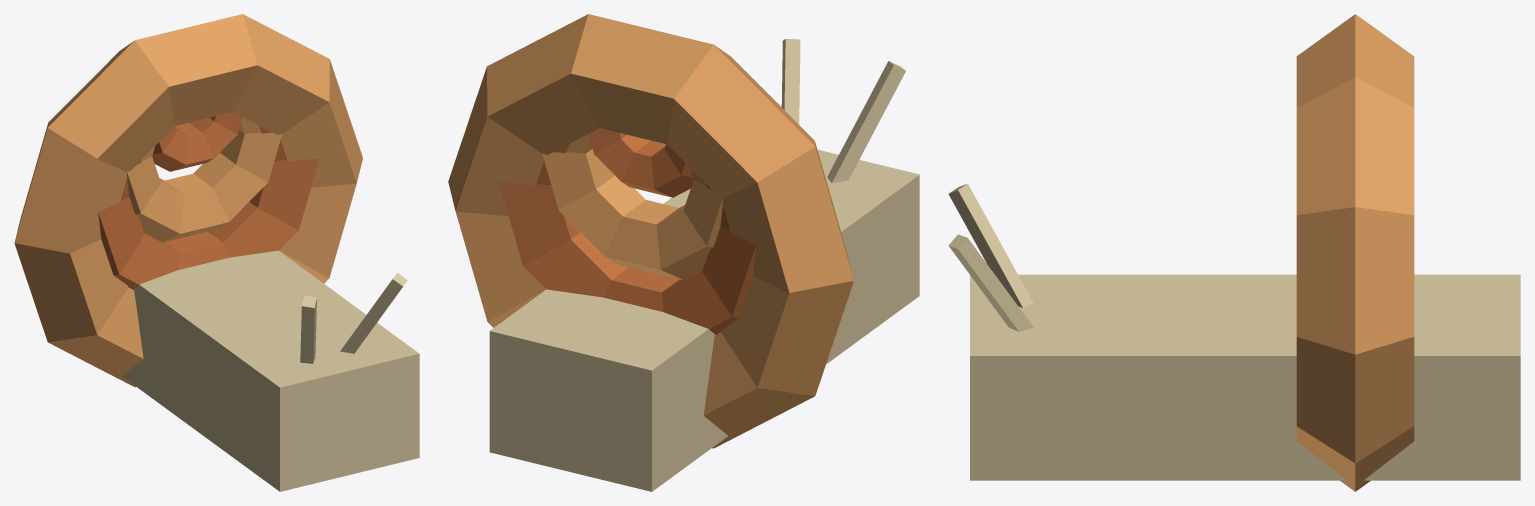
File: caramujo.glb
3 renders of one model, left to right at view 1: azimuth 30°, elevation 25°; view 2: azimuth 150°, elevation 25°; view 3: azimuth 270°, elevation 25°, orthographic. The views are drawn at different scales.
Parts seen in each view (by area): view 1: concha_0, corpo, concha_1, concha_2, concha_3, antena_1, antena_-1; view 2: concha_0, corpo, concha_1, concha_2, concha_3, antena_-1, antena_1; view 3: corpo, concha_0, antena_-1, antena_1.
Boxes of the visible parts, bbox=[...] form: concha_0: bbox=[14, 14, 362, 387]; corpo: bbox=[122, 250, 419, 491]; concha_1: bbox=[98, 125, 319, 289]; concha_2: bbox=[126, 117, 282, 242]; concha_3: bbox=[152, 112, 242, 171]; antena_1: bbox=[340, 272, 407, 353]; antena_-1: bbox=[300, 295, 316, 363]; concha_0: bbox=[448, 14, 853, 448]; corpo: bbox=[489, 149, 919, 491]; concha_1: bbox=[499, 144, 756, 334]; concha_2: bbox=[542, 134, 723, 279]; concha_3: bbox=[588, 128, 693, 197]; antena_-1: bbox=[827, 61, 905, 182]; antena_1: bbox=[781, 38, 800, 124]; corpo: bbox=[970, 274, 1520, 480]; concha_0: bbox=[1296, 14, 1414, 491]; antena_-1: bbox=[948, 183, 1033, 307]; antena_1: bbox=[948, 234, 1033, 331].
Bounding box in the file's own units: 0.35 × 0.3329 × 0.4158.
